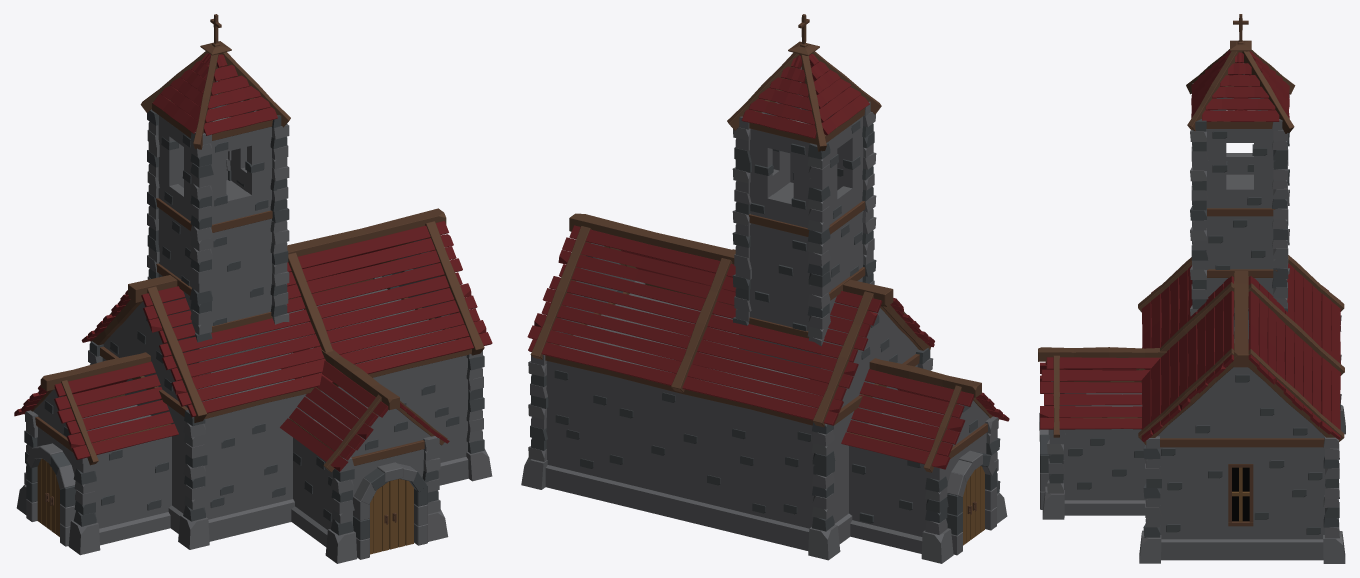
The model's file is Church.fbx.
The picture shows the model from 3 angles, left to right: view 1: azimuth 30°, elevation 25°; view 2: azimuth 150°, elevation 25°; view 3: azimuth 270°, elevation 25°; orthographic projection. The views are drawn at different scales.
Visible parts, largest first — view 1: Cube.867; view 2: Cube.867; view 3: Cube.867.
Boxes of the visible parts, box(x1,y1,x2,y2) form: Cube.867: box(14, 14, 492, 563); Cube.867: box(521, 14, 1009, 563); Cube.867: box(1038, 14, 1345, 563).
Bounding box in the file's own units: 3978 × 4540 × 2829.
